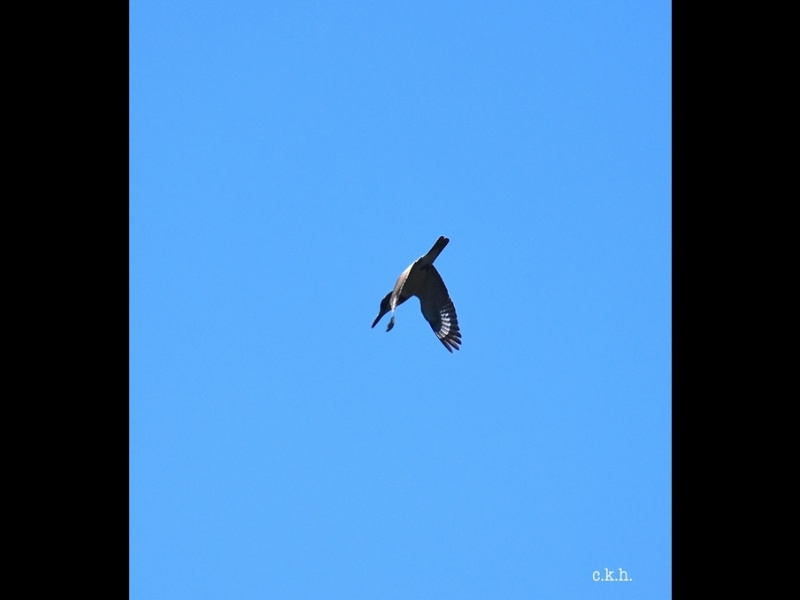kingfisher: (369, 234, 463, 359)
